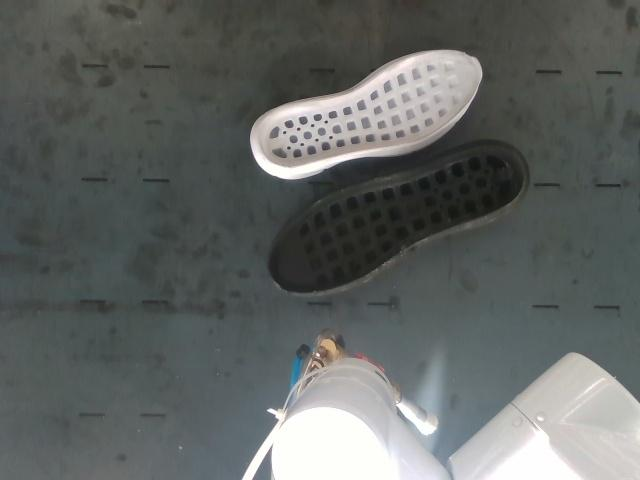shoes: (268, 148, 524, 292), (257, 51, 482, 167)
